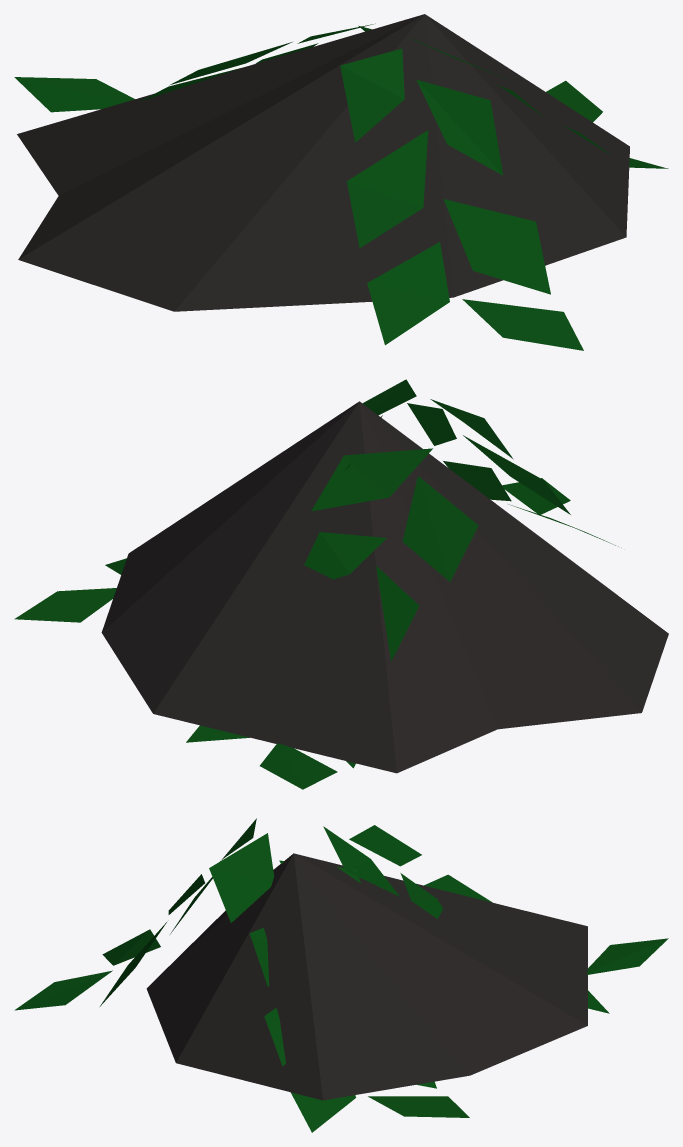
The model's file is obj_rock_6_0.obj.
3 views of the same model, one above another, from view 1: azimuth 30°, elevation 25°; view 2: azimuth 150°, elevation 25°; view 3: azimuth 270°, elevation 25° (orthographic). The views are drawn at different scales.
Size of the model in its own units: 1.19 by 0.4297 by 1.39.
